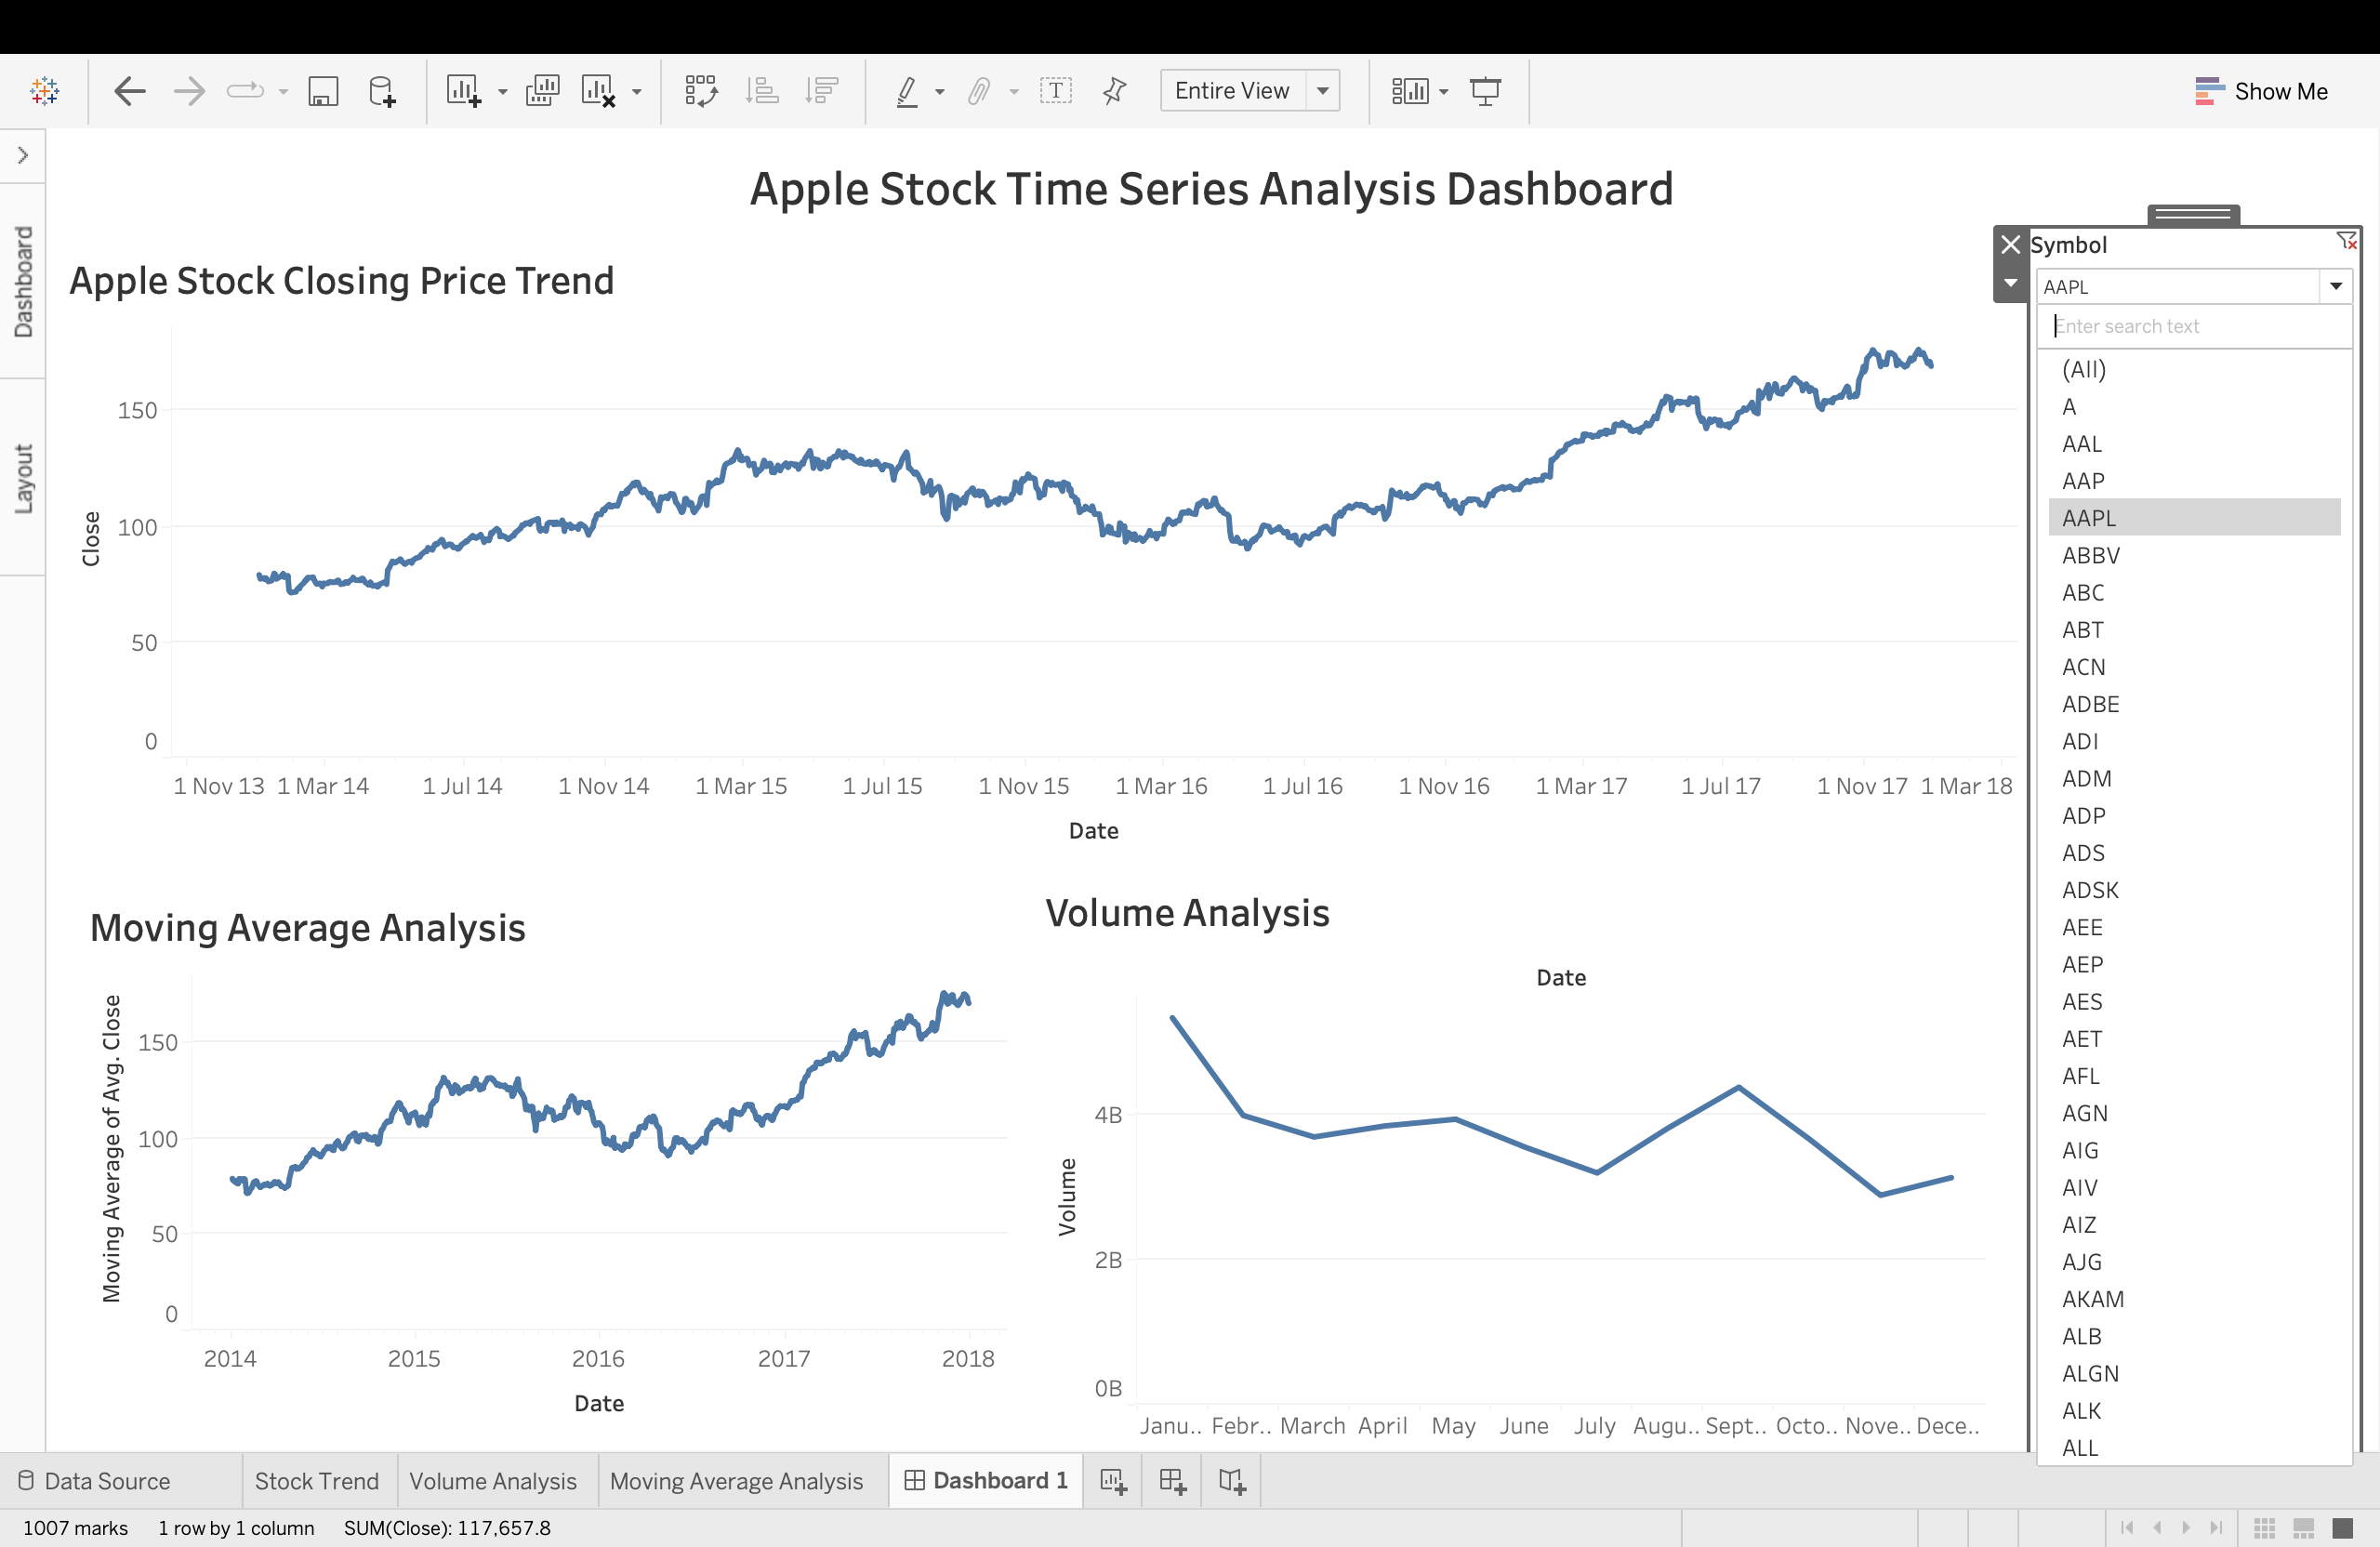

The dashboard page shown, as its layout file describes it:
{"tool":"tableau","page":{"name":"Dashboard 1","canvas":[1000,1000],"units":"permille","ordinal":0},"visuals":[{"type":"title","box":[6.4,11.2,987.2,66.1]},{"type":"worksheet","title":"Stock Trend","mark":"Automatic","rows":["close"],"cols":["date"],"box":[6.4,88.6,838.9,464.1]},{"type":"worksheet","title":"Volume Analysis","mark":"Automatic","rows":["volume"],"cols":["date"],"box":[425,566.8,406.7,427.6]},{"type":"worksheet","title":"Moving Average Analysis","mark":"Automatic","rows":["close"],"cols":["date"],"box":[15.2,578.1,397.1,407.9]}]}

Visuals, with their boxes on the dashboard's canvas, which has no fixed pixel size, in thousandths of its width and height (x1, y1, x2, y2). These are canvas units, not pixel positions in the 2380x1547 screenshot, which may show the page scaled, cropped or inside an application window:
title: <region>6, 11, 994, 77</region>
"Stock Trend" worksheet: <region>6, 89, 845, 553</region>
"Volume Analysis" worksheet: <region>425, 567, 832, 994</region>
"Moving Average Analysis" worksheet: <region>15, 578, 412, 986</region>
